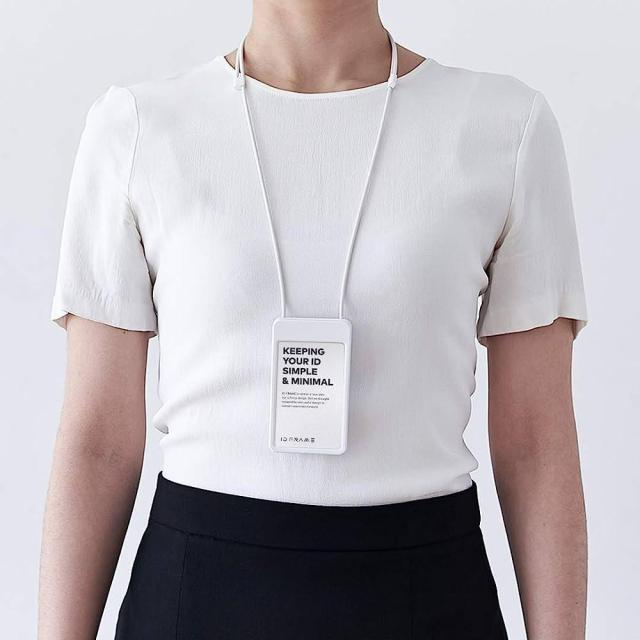Card: (270, 318, 350, 453)
